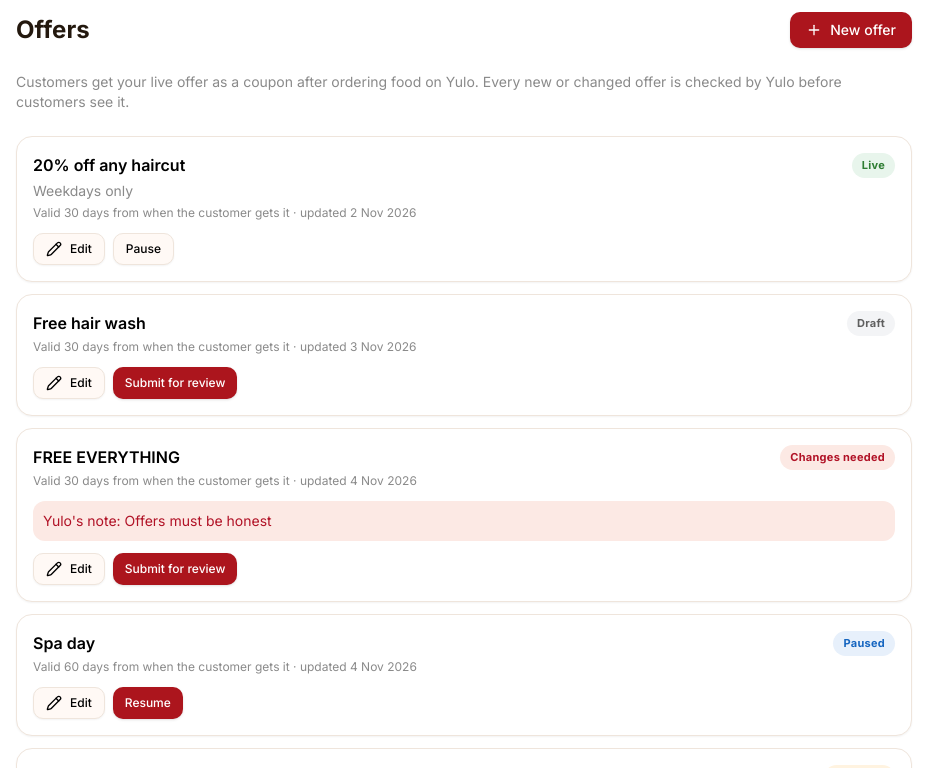
it: Offers › new offer: validated (title 3+, days 1–365), then saved as a draft at the top
The image size is (929, 768).
Click the button "New offer" at [851, 30], box [790,12,912,48]
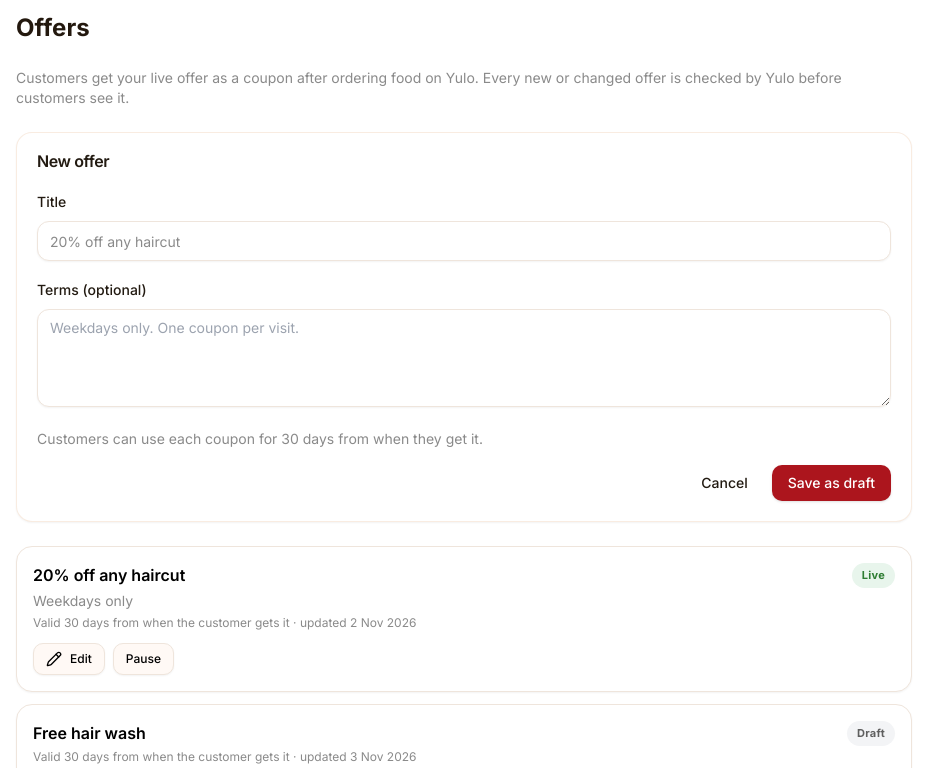
Expected: the text "Customers can use each coupon for 30 days" is shown, [37,430,483,447]
Type "ab" into the field labelled "Title" at [464, 241], box [37,221,891,261]
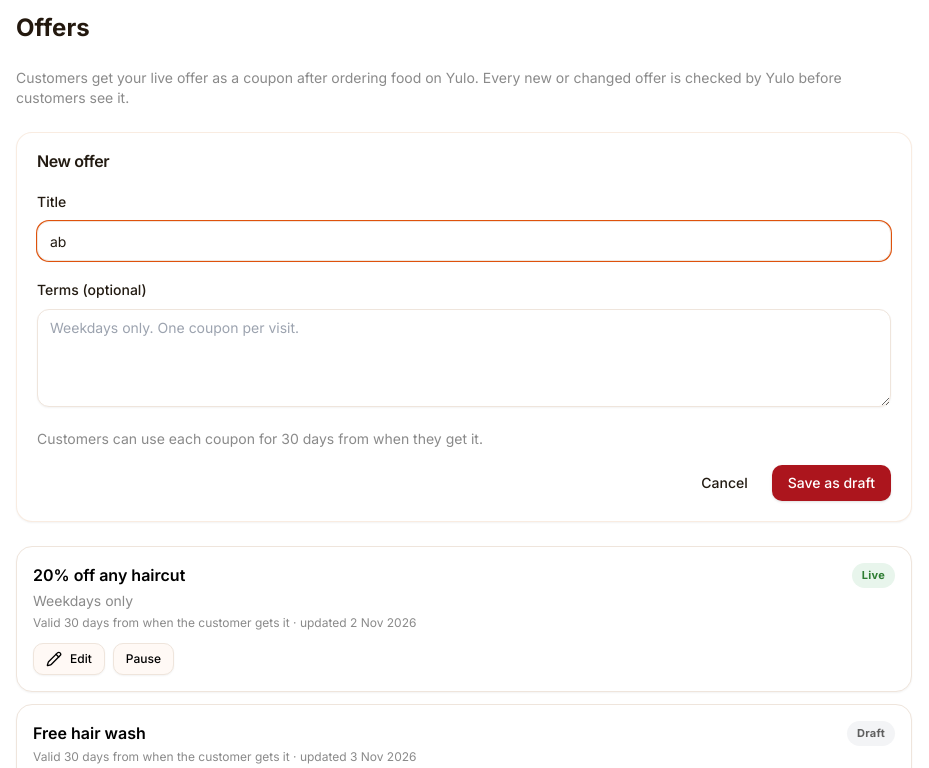
Click the button "Save as draft" at [831, 483], box [772,465,891,501]
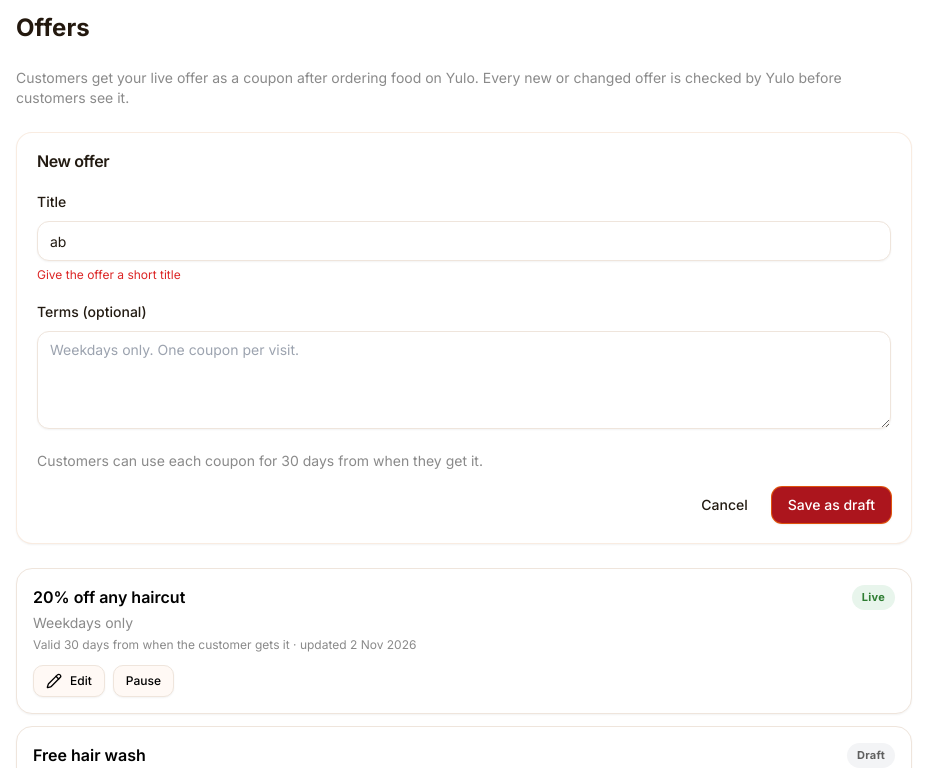
Expected: the text "Give the offer a short title" is shown, [37,267,181,282]
Replace the text in the field labelled "Title" with "  Free head massage " at [464, 241], box [37,221,891,261]
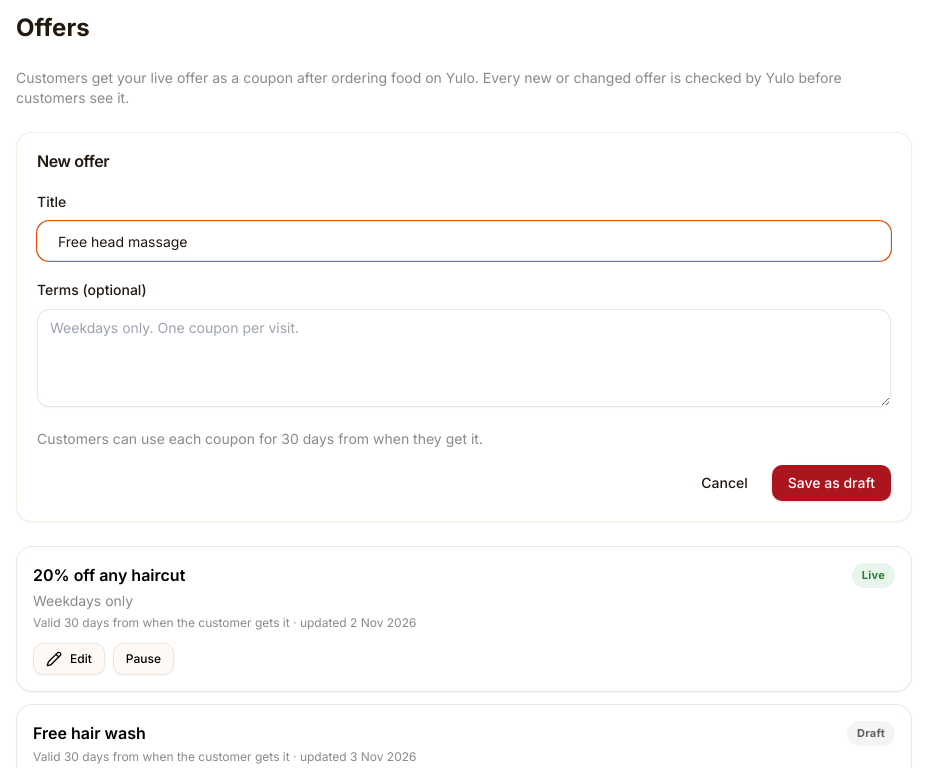
Type "With any haircut" into the text box labelled "Terms (optional)" at [464, 358], box [37,309,891,407]
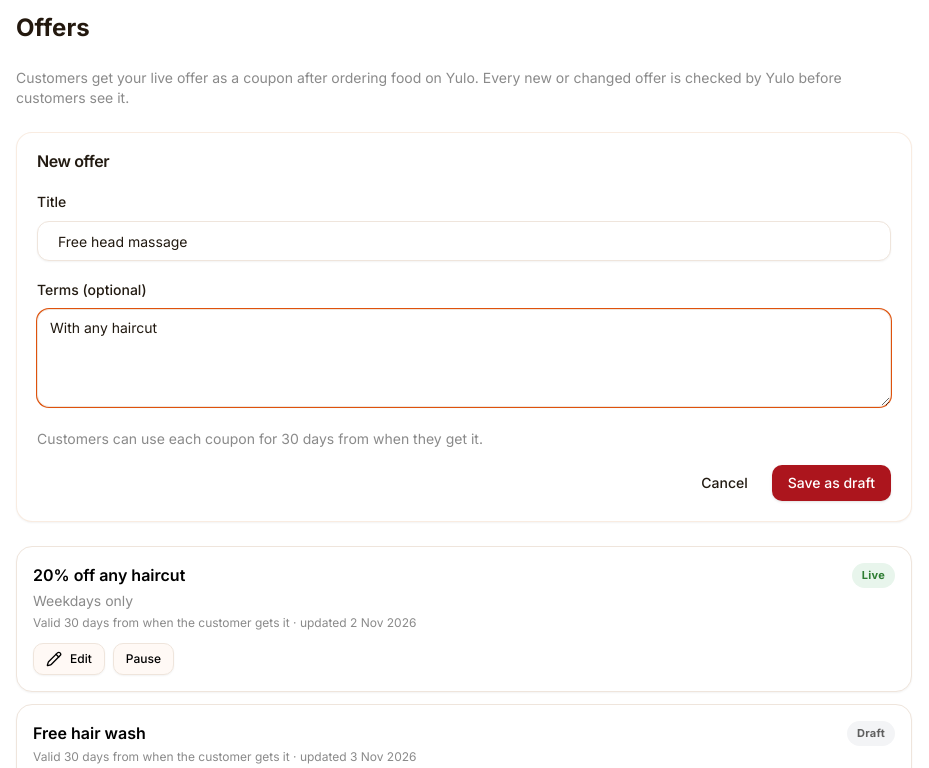
Click the button "Save as draft" at [831, 483], box [772,465,891,501]
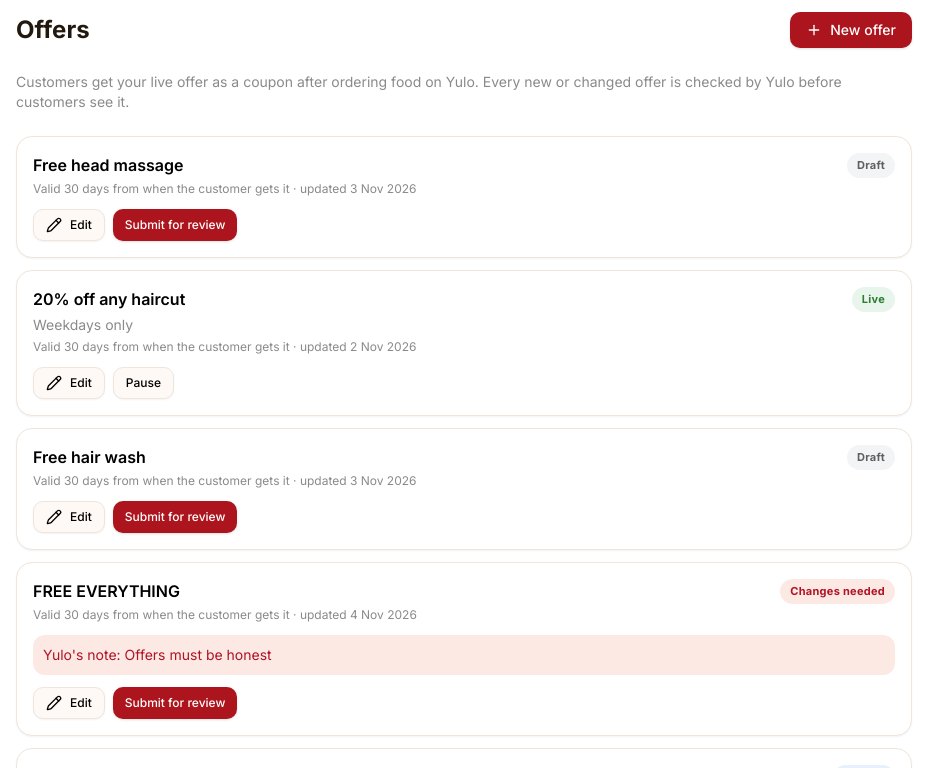
Expected: the list item with test id "offer-o9" is shown, [16,136,912,258]
Expected: the label labelled "Title" is gone
